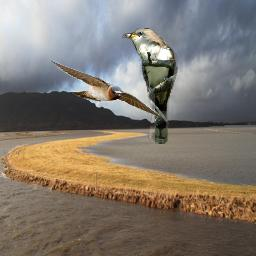Cuckoo: (122, 28, 178, 144)
Swallow: (48, 58, 164, 118)
